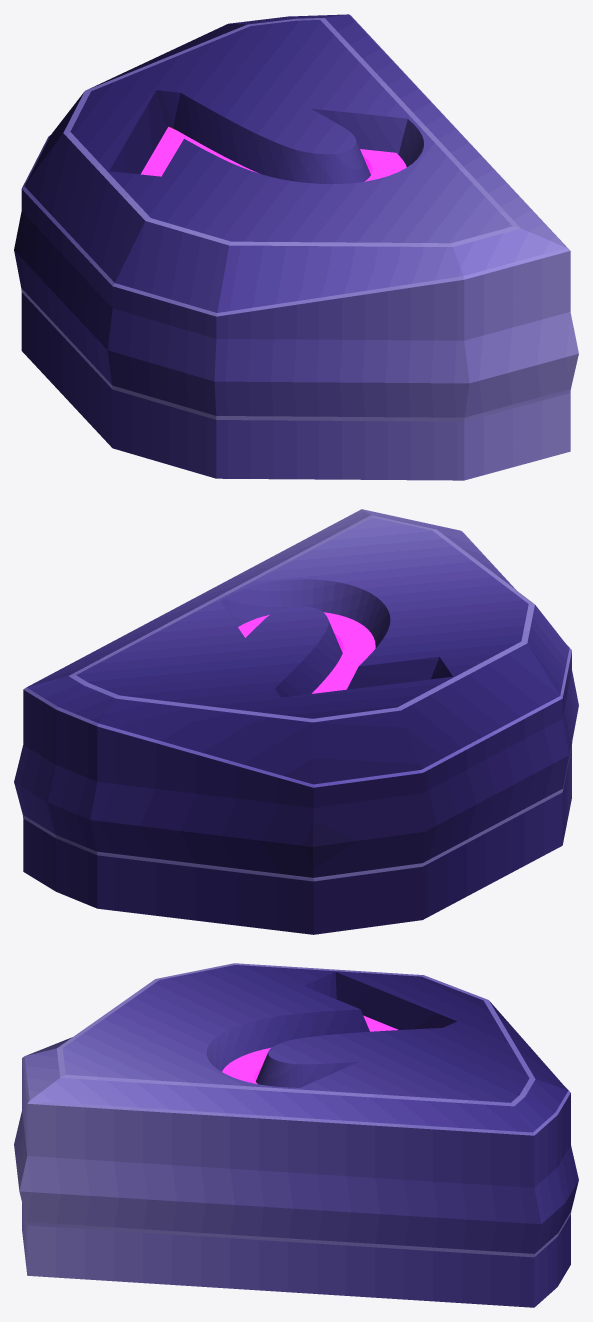
Rendered from Thermal Haul_Item_Crystal2.glb.
3 views of the same model, one above another, from view 1: azimuth 30°, elevation 25°; view 2: azimuth 150°, elevation 25°; view 3: azimuth 270°, elevation 25° (orthographic). The views are drawn at different scales.
Parts seen in each view (by area): view 1: Cylinder; view 2: Cylinder; view 3: Cylinder.
Boxes of the visible parts, bbox=[...] form: Cylinder: bbox=[14, 14, 578, 480]; Cylinder: bbox=[14, 509, 578, 934]; Cylinder: bbox=[14, 963, 578, 1307].
Bounding box in the file's own units: 0.6085 × 0.3119 × 0.8105.
2 materials, 1 textured.
